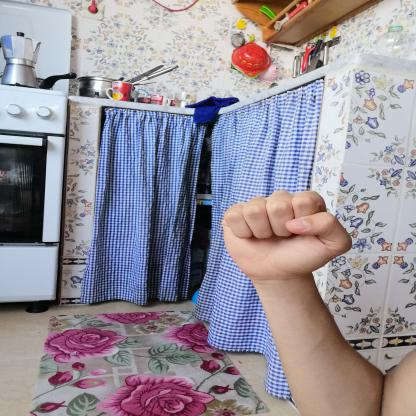SAD: (207, 176, 364, 296)
